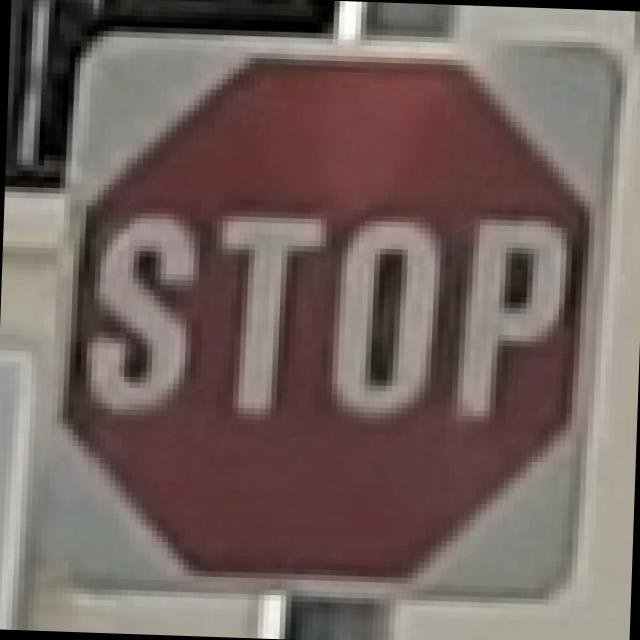mandatorystop_sign: (40, 23, 600, 594)
